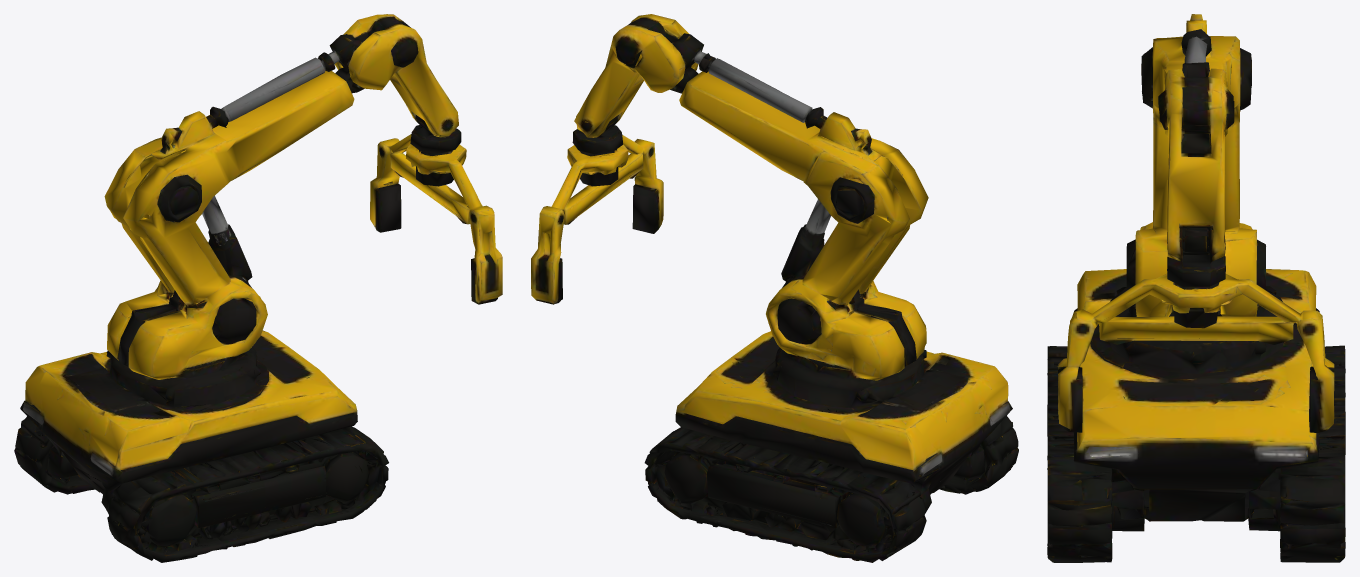
The model's file is arm-standard.glb.
The picture shows the model from 3 angles, left to right: view 1: azimuth 30°, elevation 25°; view 2: azimuth 150°, elevation 25°; view 3: azimuth 270°, elevation 25°; orthographic projection. The views are drawn at different scales.
Parts seen in each view (by area): view 1: world; view 2: world; view 3: world.
Part boxes in pixels (<box>): world: <box>14,14,502,562</box>; world: <box>531,14,1018,562</box>; world: <box>1047,14,1345,562</box>.
Size of the model in its own units: 0.9577 by 0.9979 by 0.5027.
1 material, 1 textured.
